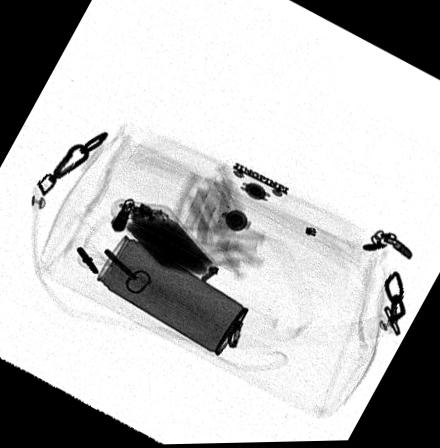Powerbank: (111, 200, 219, 275)
